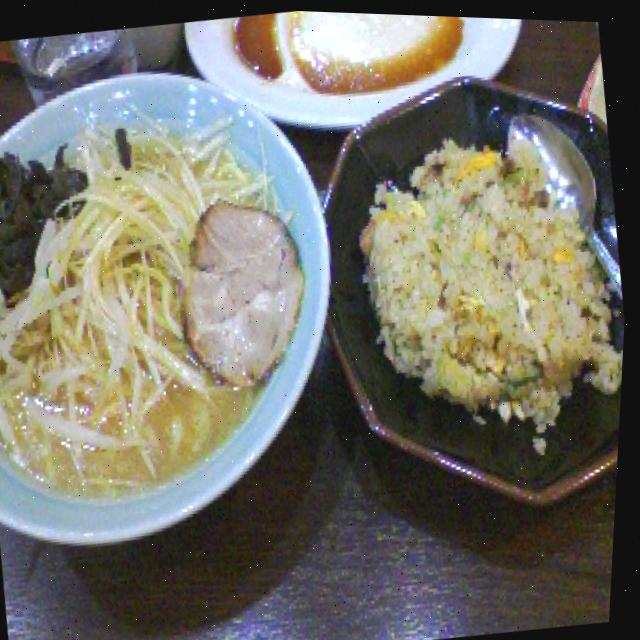米饭主食: (291, 43, 639, 531)
面条主食: (0, 43, 376, 560)
